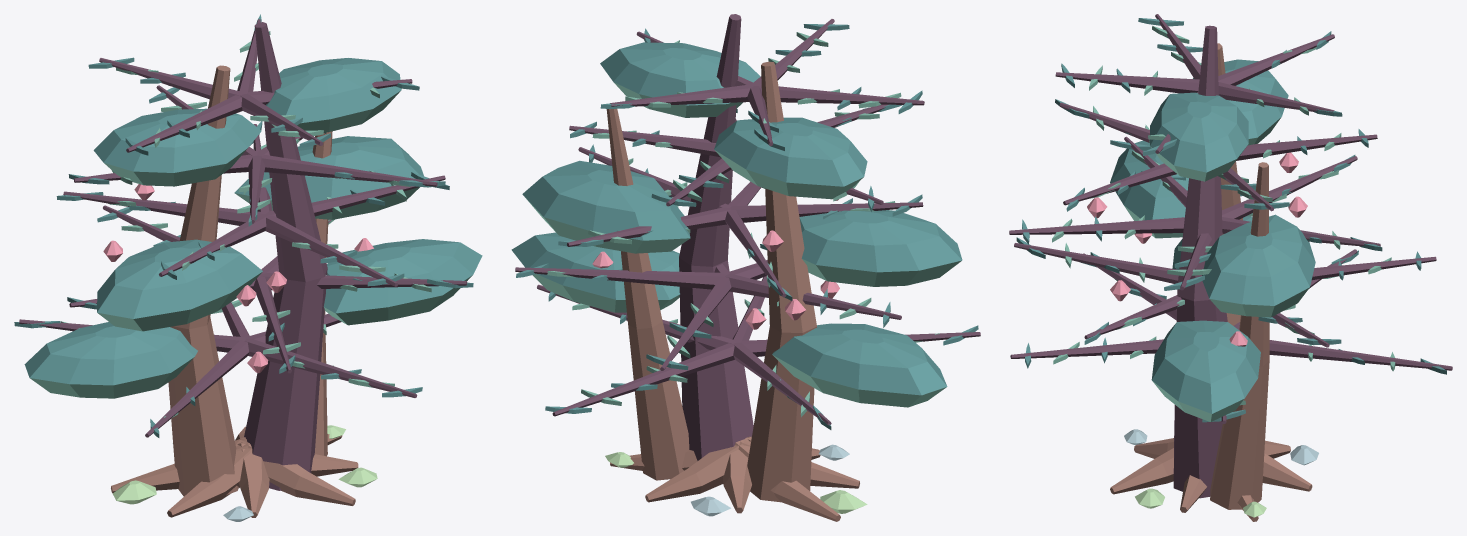
Rendered from lagoon_tree_pacific_yew.glb.
3 views of the same model, side by side, from view 1: azimuth 30°, elevation 25°; view 2: azimuth 150°, elevation 25°; view 3: azimuth 270°, elevation 25° (orthographic). The views are drawn at different scales.
Parts seen in each view (by area): view 1: lagoon_tree_pacific_yew.001; view 2: lagoon_tree_pacific_yew.001; view 3: lagoon_tree_pacific_yew.001.
Boxes of the visible parts, x1,y1,x2,y2 form: lagoon_tree_pacific_yew.001: (14,14,482,521); lagoon_tree_pacific_yew.001: (511,14,980,521); lagoon_tree_pacific_yew.001: (1009,14,1452,521).
Size of the model in its own units: 5.73 by 5.65 by 5.05.
